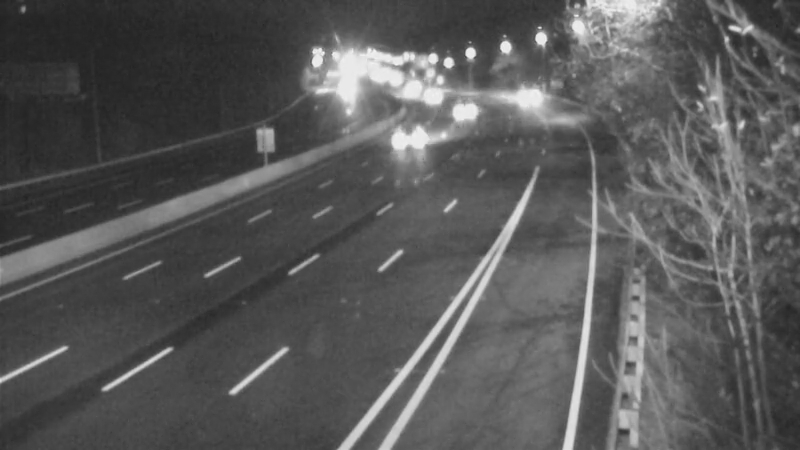vehicle: (407, 69, 457, 119), (492, 72, 542, 122), (437, 84, 487, 134), (381, 111, 431, 161)
